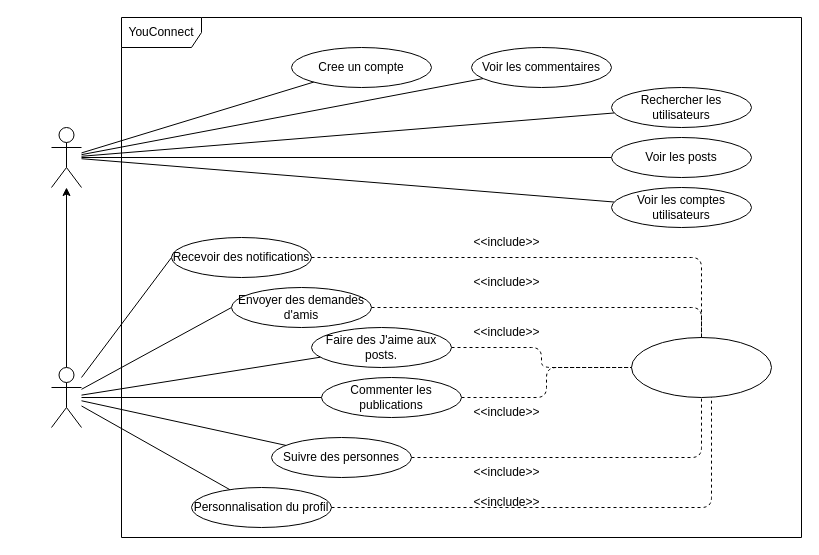
This 819x555 diagram has some shape labels left out. Here are the shapes that lost their labels. From the top down, the box of each, then its label:
(50, 126, 82, 188): Visiteur (GUEST)
(630, 336, 772, 398): AUTH
(50, 366, 82, 428): Utilisateur (USER)
